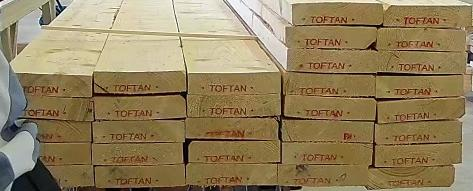Wood-Plank: (282, 69, 376, 96), (94, 94, 185, 120), (383, 0, 473, 26), (187, 93, 281, 117), (287, 49, 380, 73), (285, 96, 376, 120), (95, 164, 185, 188), (92, 120, 185, 143), (186, 117, 279, 140), (188, 140, 281, 163), (92, 71, 185, 94), (188, 72, 281, 95), (186, 163, 278, 186), (379, 98, 466, 122), (376, 120, 463, 144), (377, 27, 467, 50), (12, 165, 94, 190), (10, 72, 91, 97), (379, 51, 467, 74), (291, 3, 383, 25), (283, 142, 374, 164), (376, 144, 463, 167), (369, 165, 456, 188), (10, 96, 93, 120), (282, 121, 375, 142), (377, 76, 465, 98), (92, 144, 183, 165), (278, 165, 369, 186), (286, 27, 376, 48), (10, 142, 91, 165), (9, 120, 91, 142)
